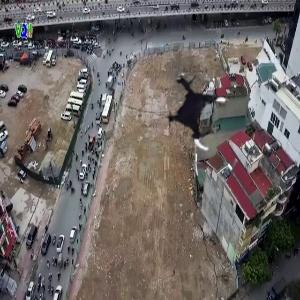drone: (155, 67, 244, 156)
